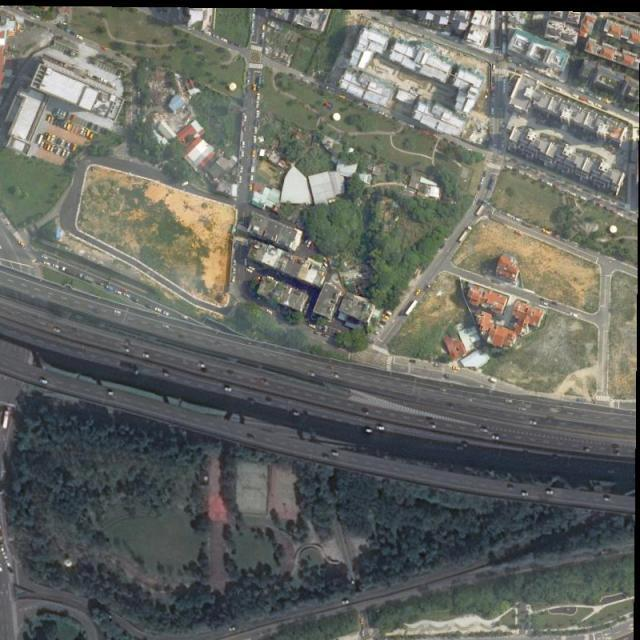vehicle: (458, 226, 473, 243), (406, 300, 418, 316), (62, 267, 78, 277), (475, 202, 487, 215), (488, 174, 497, 190), (79, 274, 94, 283), (3, 410, 10, 429), (212, 33, 220, 41), (38, 135, 44, 145), (480, 427, 490, 433), (59, 139, 66, 147), (489, 376, 496, 384), (198, 363, 207, 369), (46, 144, 53, 151), (415, 289, 422, 296), (154, 307, 162, 313), (66, 142, 72, 150), (76, 35, 84, 41), (530, 419, 538, 425), (586, 98, 594, 104), (342, 599, 350, 605), (142, 352, 150, 358), (382, 314, 390, 320), (492, 435, 501, 440), (40, 379, 49, 384), (322, 325, 327, 334), (122, 348, 131, 353), (47, 134, 53, 141), (163, 311, 170, 317), (80, 128, 86, 135), (309, 323, 316, 329), (373, 330, 380, 336), (73, 144, 78, 152), (238, 174, 242, 184), (67, 122, 72, 130), (308, 373, 316, 378), (114, 310, 122, 315), (243, 114, 248, 122), (255, 101, 260, 109), (250, 174, 254, 184), (570, 312, 578, 317), (50, 146, 56, 152), (306, 241, 312, 247), (241, 140, 245, 149), (253, 135, 257, 144), (249, 183, 254, 190), (41, 141, 46, 148), (57, 148, 62, 155), (62, 150, 67, 157), (51, 135, 56, 142), (86, 131, 91, 138), (106, 286, 113, 291), (519, 406, 526, 411), (522, 491, 529, 496), (365, 428, 372, 433), (54, 328, 61, 333), (18, 242, 25, 247), (595, 103, 602, 108), (261, 25, 266, 32), (48, 114, 52, 122), (162, 325, 170, 329), (453, 366, 461, 370), (232, 268, 236, 276), (572, 94, 580, 98), (241, 150, 245, 158), (255, 110, 259, 118), (254, 126, 258, 134), (262, 31, 266, 39), (66, 152, 71, 158), (125, 293, 131, 298), (182, 314, 188, 319), (64, 122, 69, 128), (50, 117, 55, 123), (60, 110, 65, 116), (266, 309, 272, 314), (580, 97, 586, 102), (230, 625, 236, 630), (53, 264, 59, 269), (226, 387, 232, 392), (380, 320, 386, 325), (378, 323, 384, 328), (542, 302, 548, 307), (480, 178, 485, 184), (257, 93, 261, 100), (253, 85, 257, 92), (246, 269, 253, 273), (182, 182, 189, 186), (83, 130, 87, 137), (89, 122, 93, 129), (63, 111, 67, 118), (102, 46, 109, 50), (331, 374, 338, 378), (546, 490, 553, 494), (378, 426, 385, 430), (604, 497, 611, 501), (44, 262, 51, 266), (555, 86, 562, 90), (543, 230, 550, 234), (310, 243, 314, 250), (57, 109, 62, 114), (116, 290, 122, 294), (90, 133, 94, 139), (72, 115, 76, 121), (66, 113, 70, 119), (221, 38, 227, 42), (332, 452, 338, 456), (253, 150, 256, 157), (240, 166, 243, 173), (505, 399, 512, 402), (584, 448, 590, 451), (247, 78, 250, 84), (430, 425, 436, 428), (491, 108, 494, 114), (232, 276, 235, 282), (1, 563, 3, 572), (483, 171, 486, 177), (509, 486, 514, 489), (243, 126, 246, 131), (234, 259, 236, 266)
